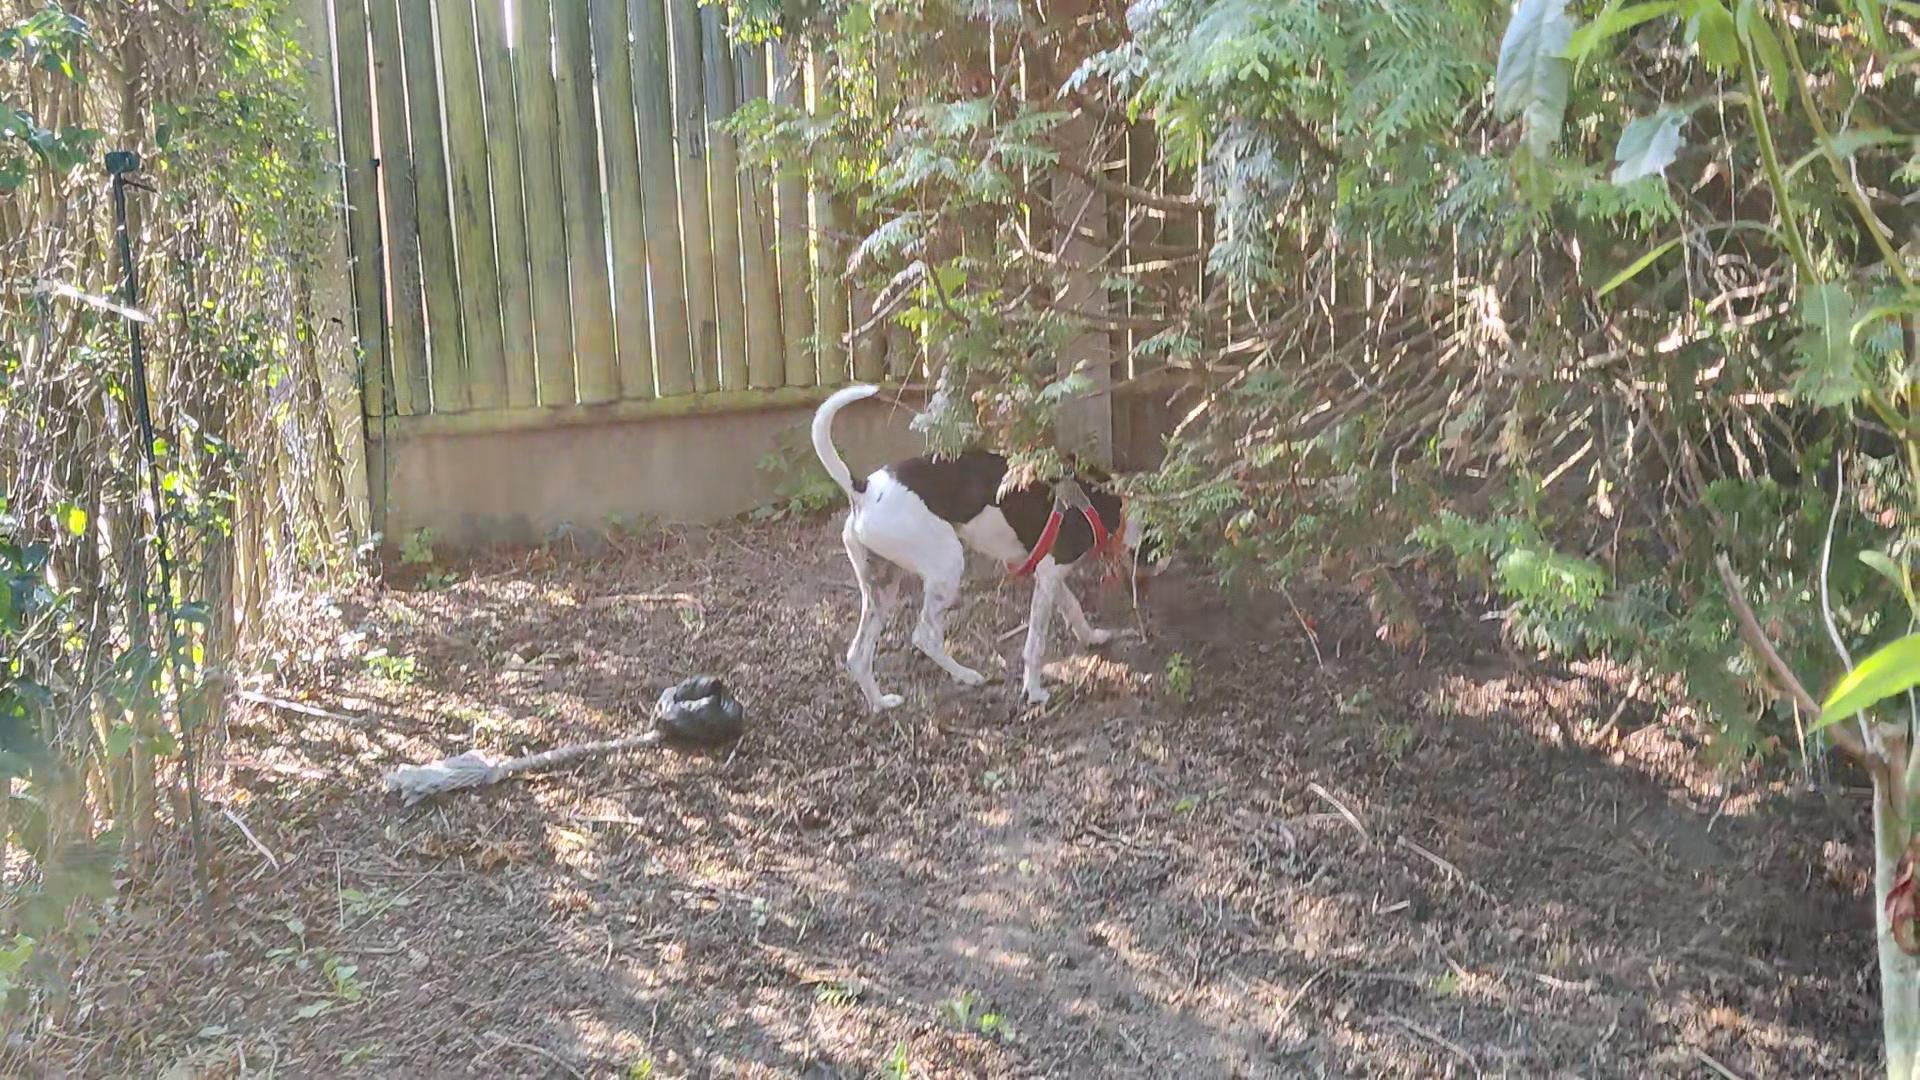Dog: (804, 371, 1191, 717)
